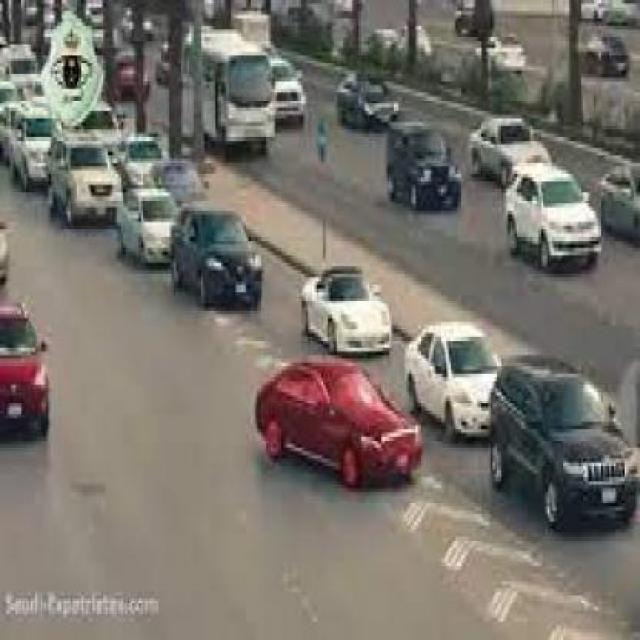vehicle: (490, 355, 640, 533), (256, 351, 424, 494), (506, 160, 601, 276), (409, 323, 503, 440), (189, 24, 276, 148), (171, 200, 266, 308), (300, 262, 396, 352), (386, 116, 462, 212), (46, 133, 122, 220), (119, 182, 180, 262), (335, 64, 400, 128)
